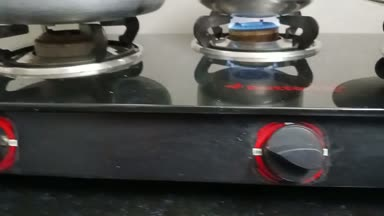flame_gas_on: (212, 12, 330, 187)
